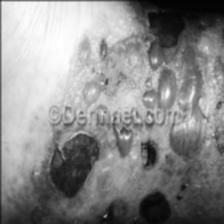Toxin: (44, 127, 224, 223), (70, 1, 224, 107)
